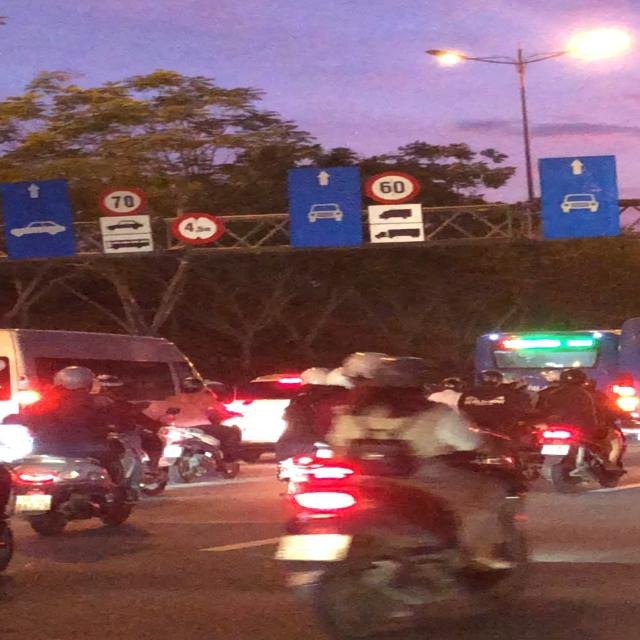Bien bao han che chieu cao: (161, 208, 222, 250)
Bien bao toc do toi da cho phep: (361, 168, 428, 205), (93, 184, 152, 218)
